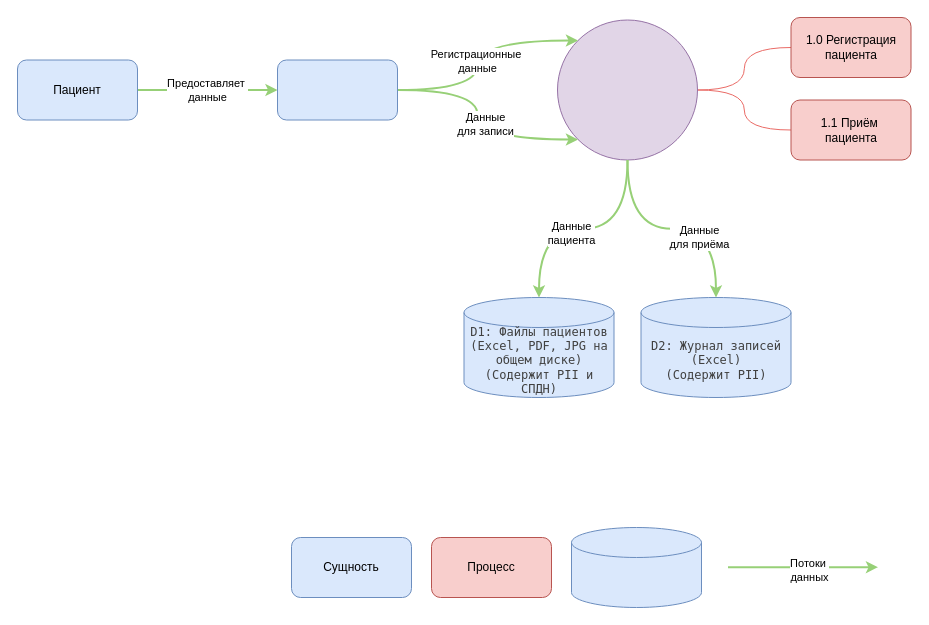
The diagram is 929 pixels wide and 625 high, and some of its shapes have lost their labels. Each missing label, with the centre of its shape:
Система Медикаменте: point (627, 89)
Сотрудник ресепшена: point (337, 89)
Хранилище данных: point (636, 567)
